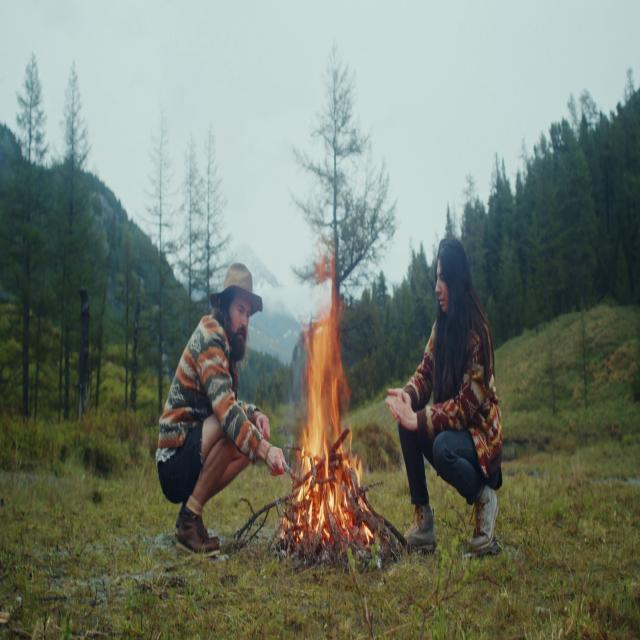Fire: (288, 276, 368, 550)
